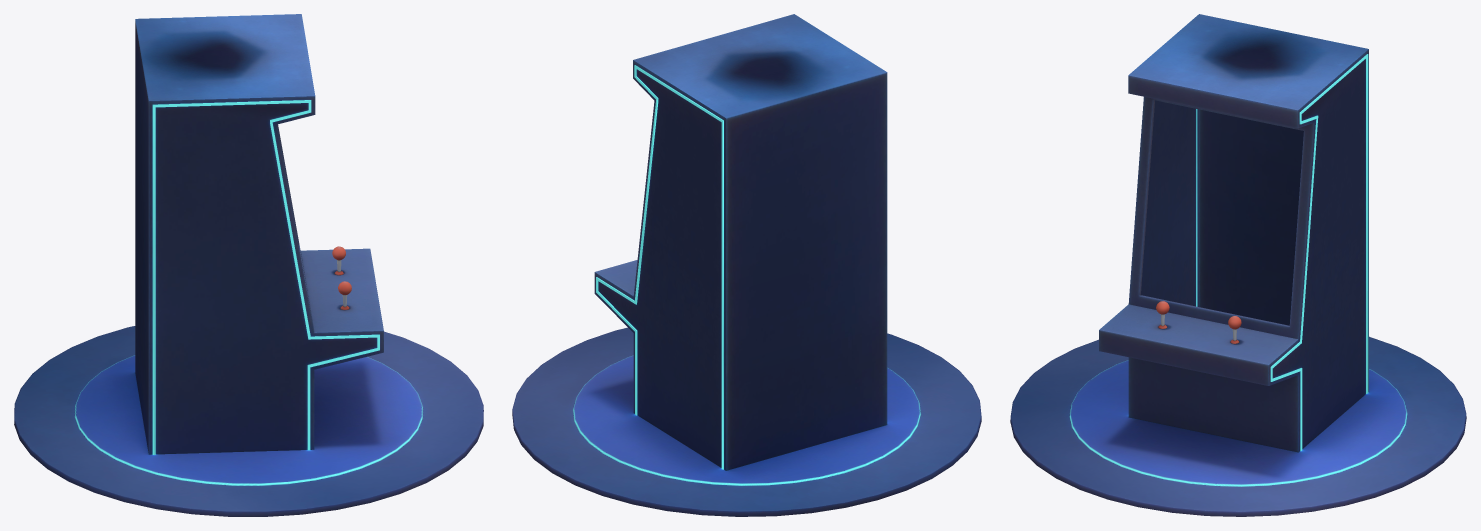
File: GameStation_LOD2.glb
3 views of the same model, side by side, from view 1: azimuth 30°, elevation 25°; view 2: azimuth 150°, elevation 25°; view 3: azimuth 270°, elevation 25° (orthographic). The views are drawn at different scales.
Parts seen in each view (by area): view 1: Game Station_PROCESSED.001_LOD2; view 2: Game Station_PROCESSED.001_LOD2; view 3: Game Station_PROCESSED.001_LOD2.
Part boxes in pixels (bbox=[...]): Game Station_PROCESSED.001_LOD2: bbox=[14, 14, 483, 516]; Game Station_PROCESSED.001_LOD2: bbox=[512, 14, 981, 516]; Game Station_PROCESSED.001_LOD2: bbox=[1010, 14, 1466, 516].
Size of the model in its own units: 4.1 by 3.47 by 4.1.
1 material, 1 textured.
